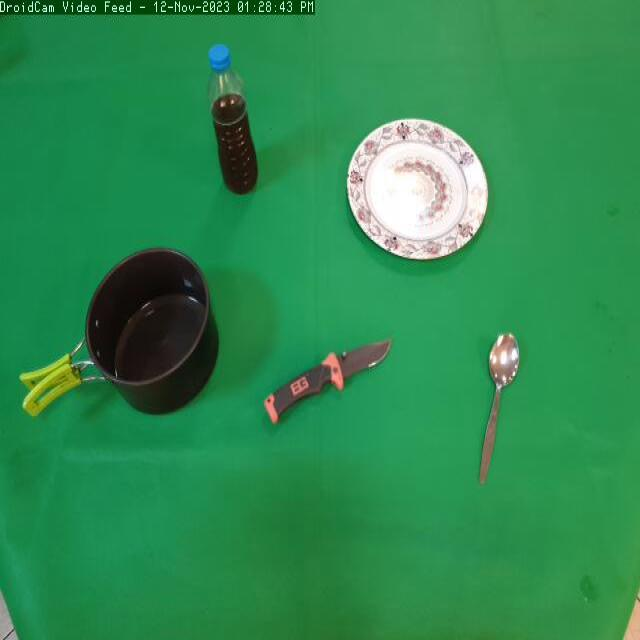fullbottle: (204, 39, 263, 202)
knife: (264, 330, 404, 429)
plate: (348, 111, 500, 265)
pot: (14, 242, 224, 430)
spoon: (460, 328, 532, 492)
